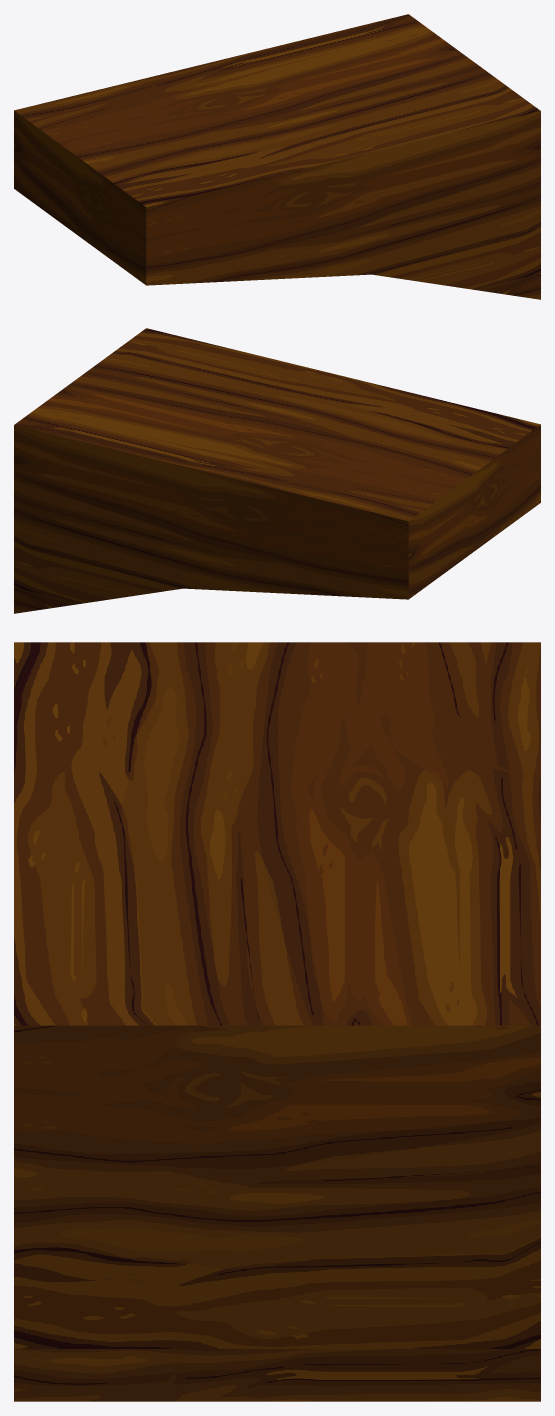
The model's file is beam_part1.glb.
3 views of the same model, one above another, from view 1: azimuth 30°, elevation 25°; view 2: azimuth 150°, elevation 25°; view 3: azimuth 270°, elevation 25° (orthographic). The views are drawn at different scales.
Visible parts, largest first — view 1: Cube; view 2: Cube; view 3: Cube.
Boxes of the visible parts, <box> form: Cube: <box>14,14,540,299</box>; Cube: <box>14,328,540,613</box>; Cube: <box>14,642,540,1401</box>.
Size of the model in its own units: 1.84 by 0.8433 by 1.07.
Materials: 1 (1 with a texture image).
